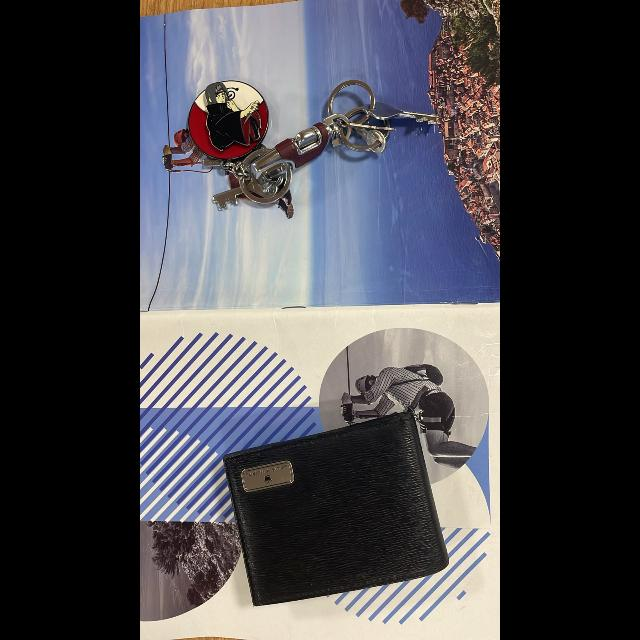keys: (144, 71, 456, 221)
wallet: (204, 396, 488, 620)
